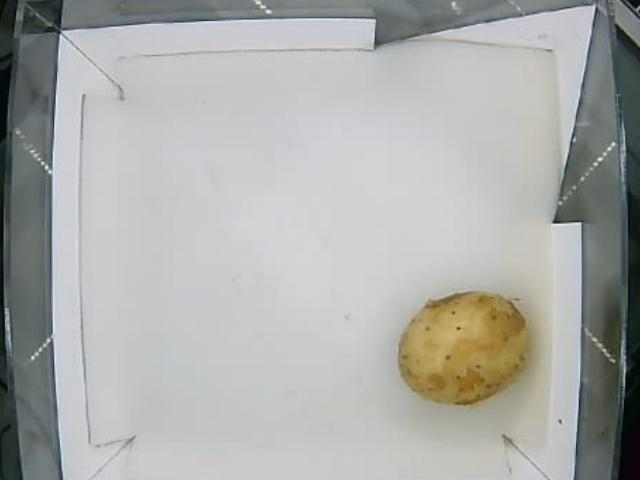Potato: (399, 289, 528, 402)
